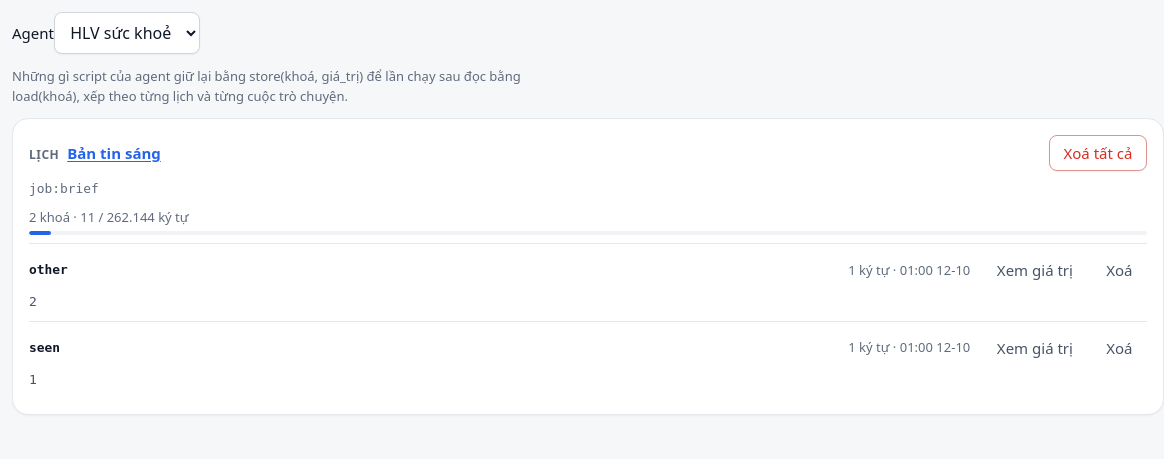
Test: a key's whole value › when it cannot be read: shows the usual error in the row, keeps the row, and reads again when asked
Click the button "Xem giá trị" in the row of "seen" at coordinates (1035, 348), box [982,330,1088,366]
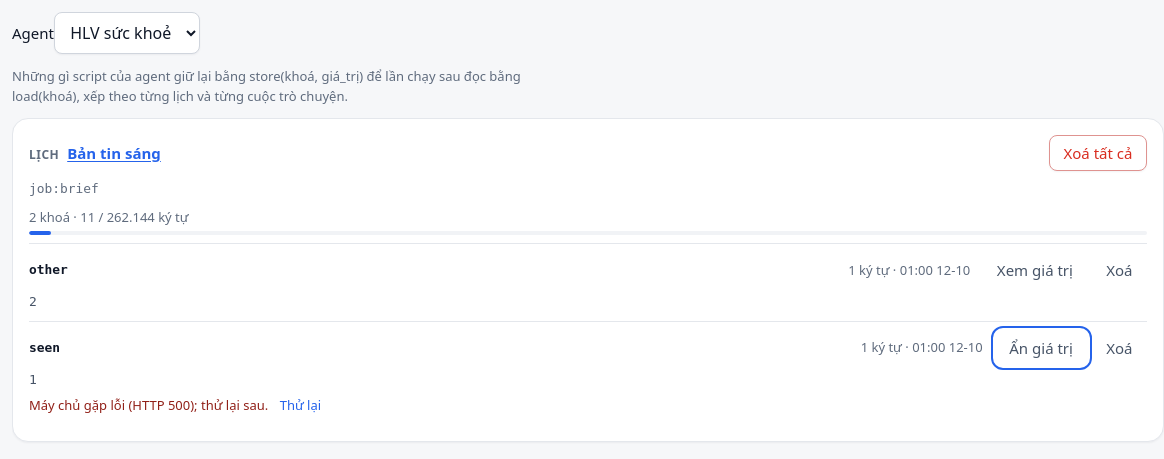
Check: the text "1" is shown, box [29,372,37,387]
Click the button "Thử lại" at coordinates (300, 406), box [272,394,329,417]
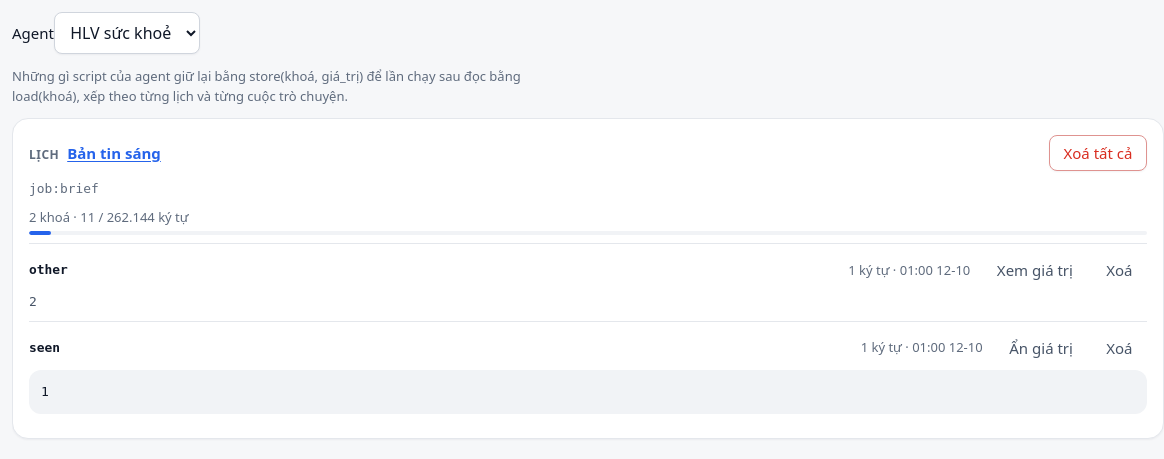
Check: the message "Máy chủ gặp lỗi (HTTP 500); thử lại sau. Thử lại" is gone
